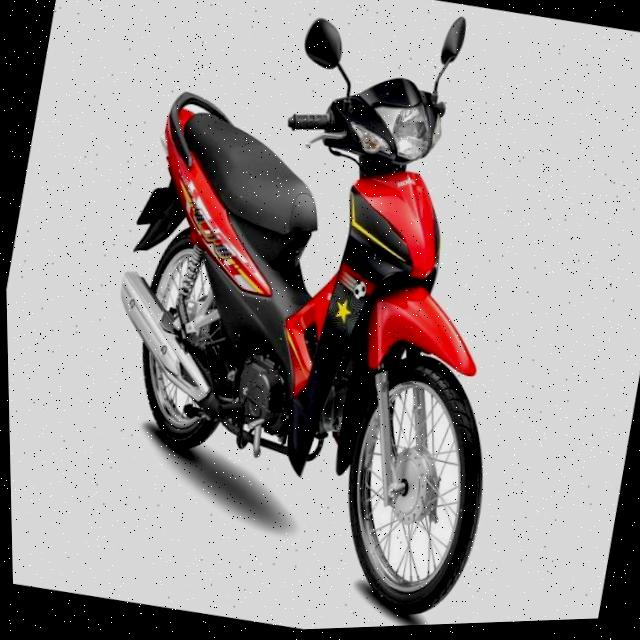motorcycle: (61, 0, 580, 638)
